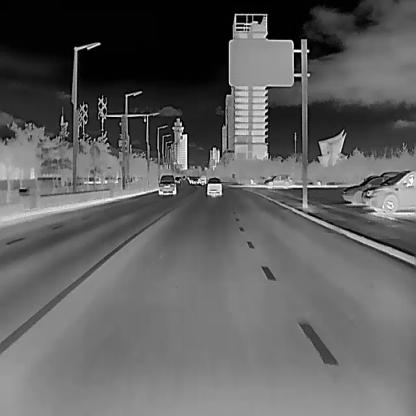car: (360, 169, 416, 214), (342, 172, 388, 202), (262, 173, 292, 188), (158, 175, 176, 194), (204, 177, 221, 196)
